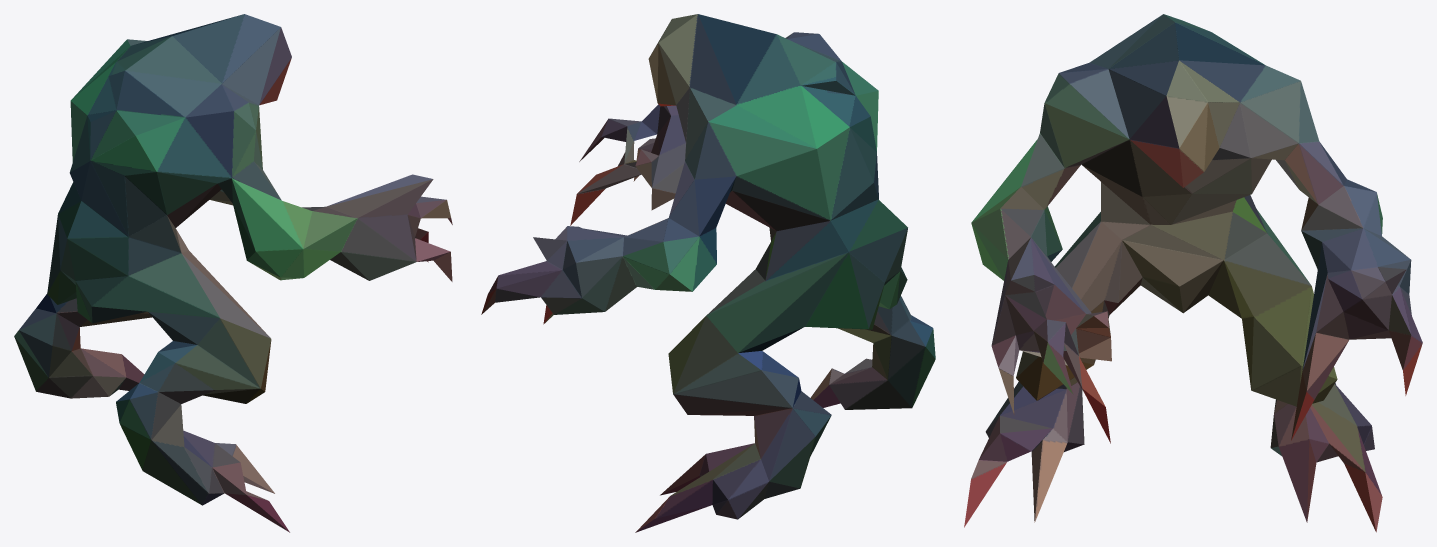
File: A_ghostly_undead_abom_0914235034_refine.fbx
The picture shows the model from 3 angles, left to right: view 1: azimuth 30°, elevation 25°; view 2: azimuth 150°, elevation 25°; view 3: azimuth 270°, elevation 25°; orthographic projection. The views are drawn at different scales.
Visible parts, largest first — view 1: Mesh_0; view 2: Mesh_0; view 3: Mesh_0.
Boxes of the visible parts, x1=… form: Mesh_0: x1=14, y1=14, x2=452, y2=532; Mesh_0: x1=481, y1=14, x2=935, y2=532; Mesh_0: x1=964, y1=14, x2=1422, y2=532.
Size of the model in its own units: 125 by 149 by 125.
Materials: 1 (1 with a texture image).
